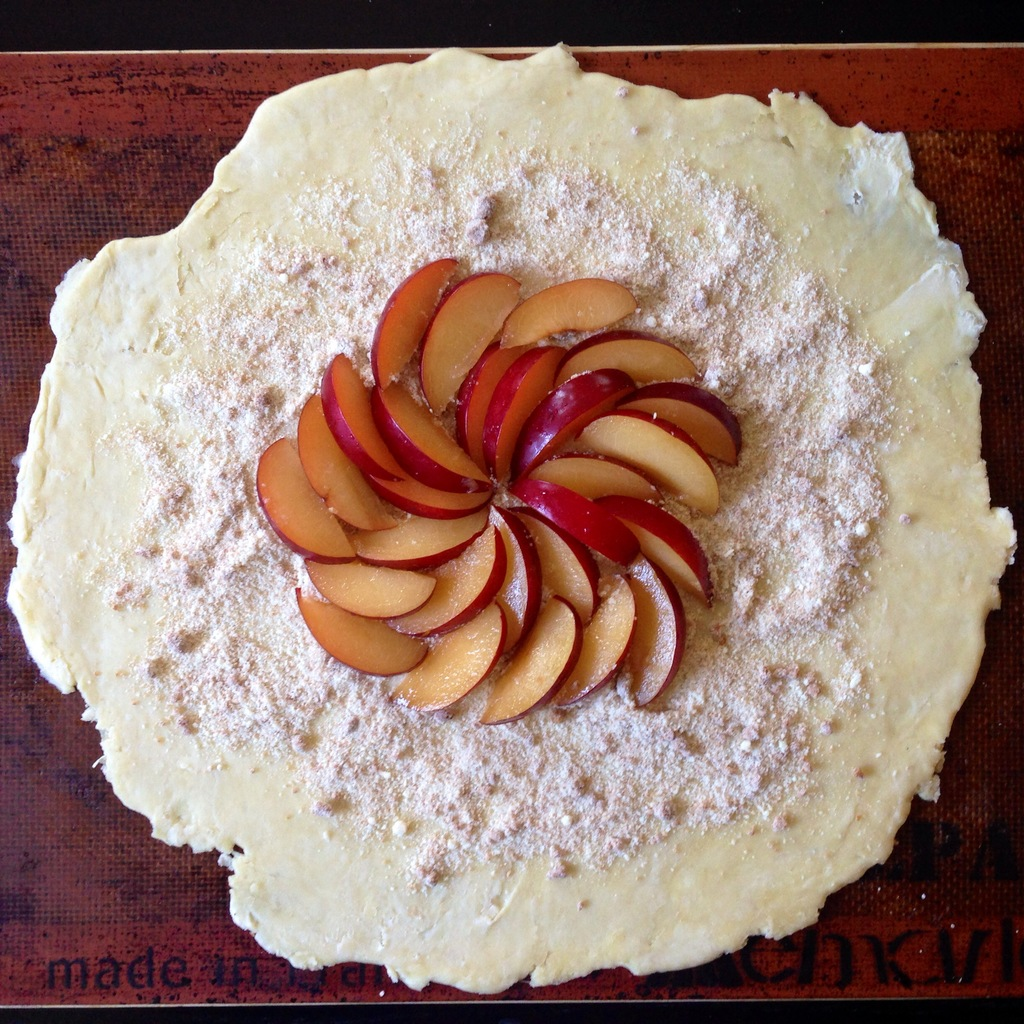Apple: (250, 264, 740, 721), (254, 432, 352, 563), (371, 254, 464, 385)
